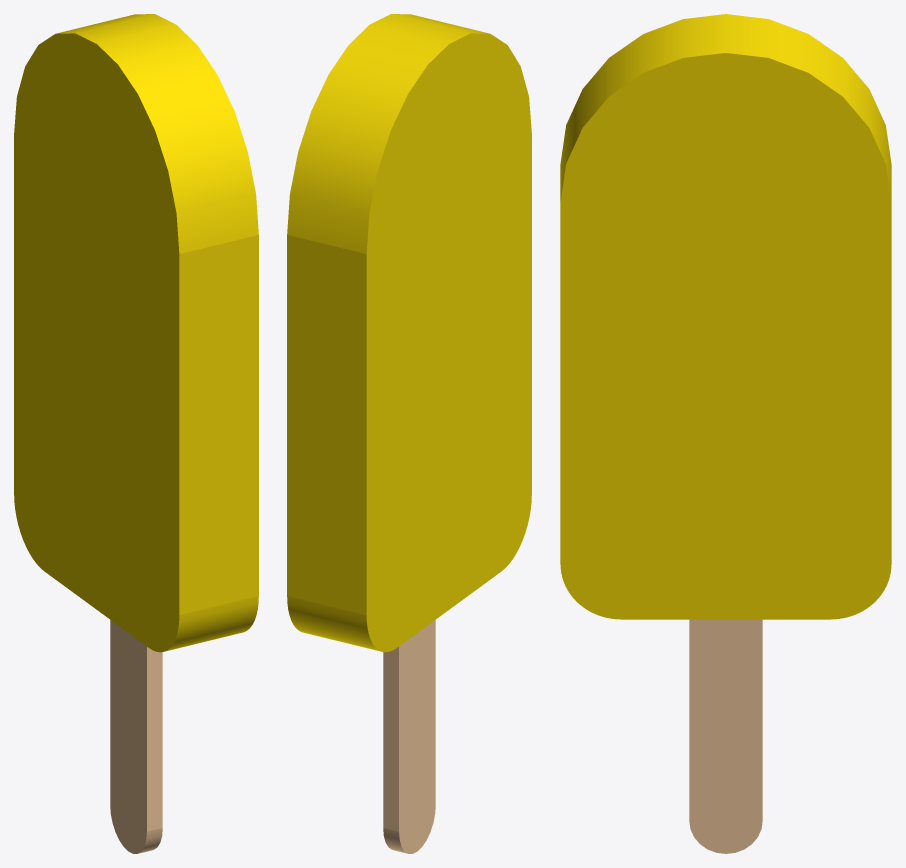
Rendered from popsicle_yellow.fbx.
The picture shows the model from 3 angles, left to right: view 1: azimuth 30°, elevation 25°; view 2: azimuth 150°, elevation 25°; view 3: azimuth 270°, elevation 25°; orthographic projection.
Parts seen in each view (by area): view 1: popsicle; view 2: popsicle; view 3: popsicle.
Boxes of the visible parts, <box> form: popsicle: <box>14,14,258,853</box>; popsicle: <box>287,14,531,853</box>; popsicle: <box>560,14,891,853</box>.
Size of the model in its own units: 5 by 49 by 18.
